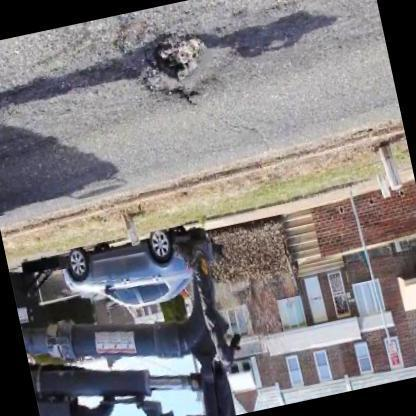pothole: (152, 29, 202, 79)
